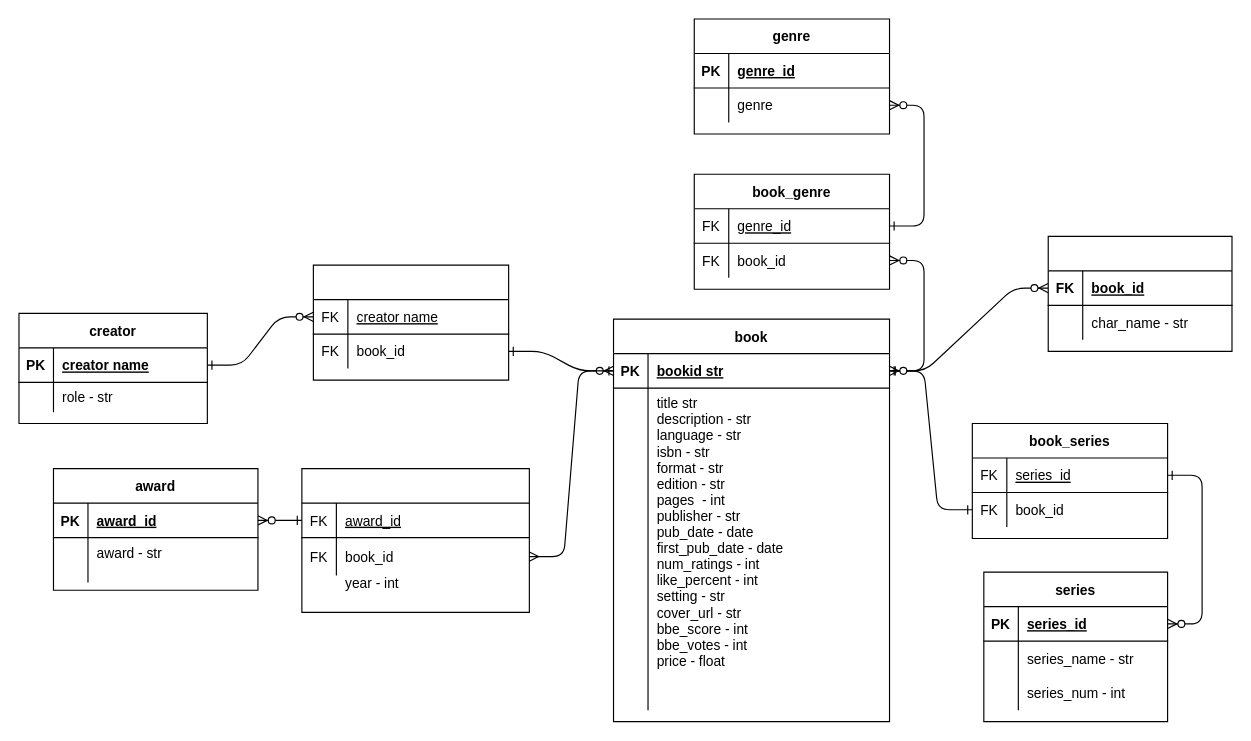
Some shapes in this 1251 by 741 pixel diagram are drawn without their labels. Here are the shapes that lost their labels. From the top down, the box of each, then its label:
(1047, 235, 1232, 351): character
(312, 264, 509, 380): book_creator
(301, 467, 529, 612): book_award
